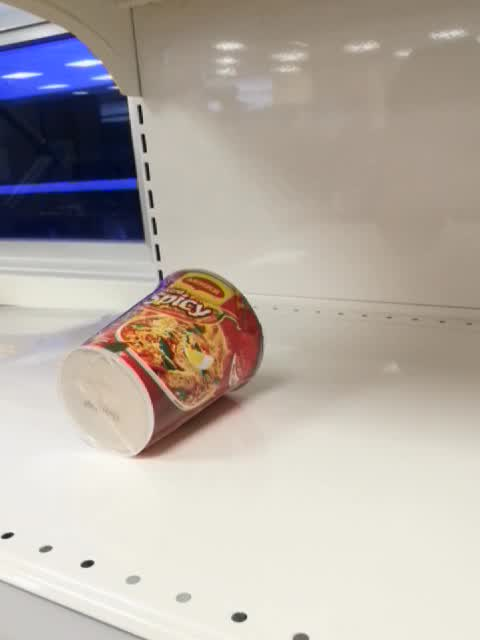maggi: (58, 267, 266, 459)
